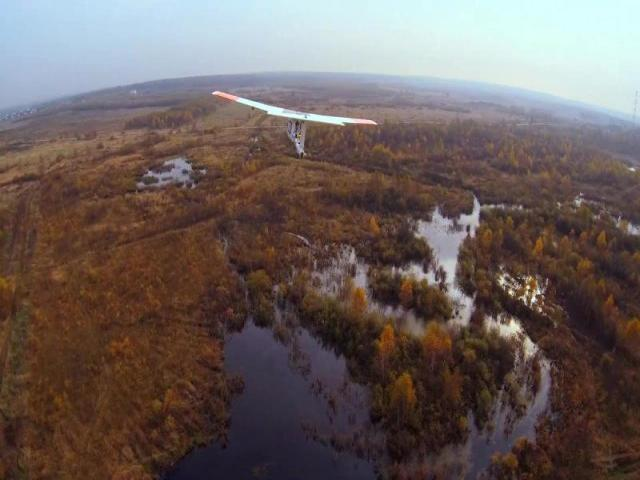hedef: (203, 81, 390, 173)
